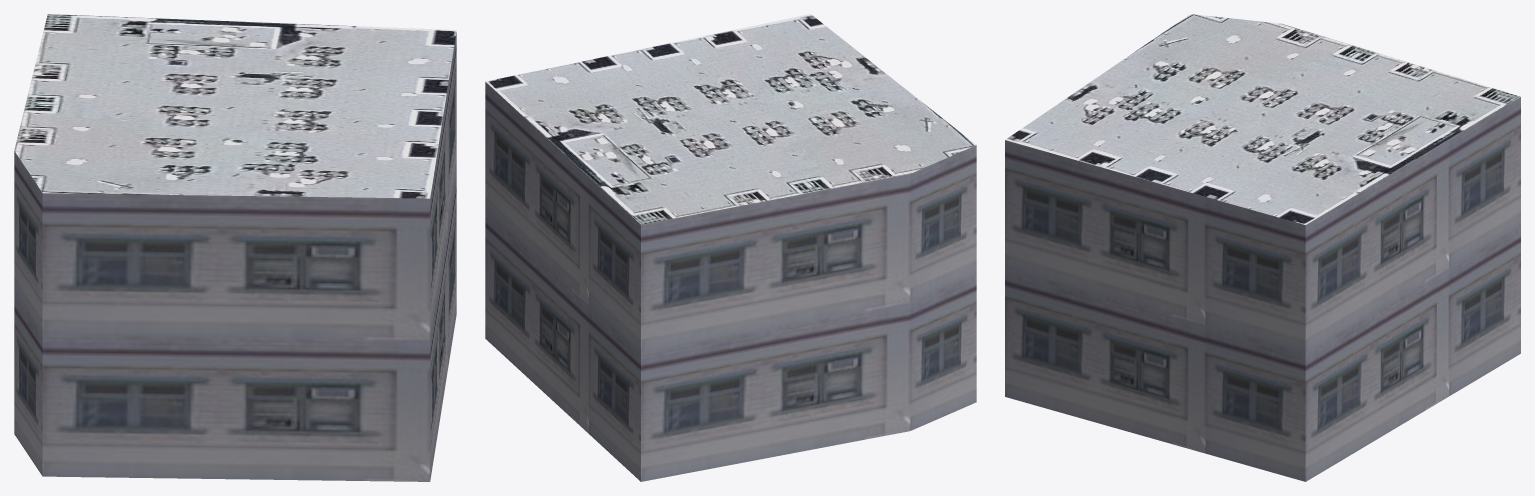
File: ResTex__110.fbx
3 views of the same model, side by side, from view 1: azimuth 30°, elevation 25°; view 2: azimuth 150°, elevation 25°; view 3: azimuth 270°, elevation 25° (orthographic). The views are drawn at different scales.
Visible parts, largest first — view 1: CityEngineMaterial_1_m, CityEngineMaterial_4_m; view 2: CityEngineMaterial_1_m, CityEngineMaterial_4_m; view 3: CityEngineMaterial_1_m, CityEngineMaterial_4_m.
Part boxes in pixels (left/top/right/bottom): CityEngineMaterial_1_m: left=14, top=32, right=456, bottom=481; CityEngineMaterial_4_m: left=14, top=14, right=456, bottom=198; CityEngineMaterial_1_m: left=485, top=82, right=976, bottom=481; CityEngineMaterial_4_m: left=486, top=14, right=976, bottom=224; CityEngineMaterial_1_m: left=1005, top=97, right=1520, bottom=481; CityEngineMaterial_4_m: left=1005, top=14, right=1520, bottom=224.
Bounding box in the file's own units: 10.58 × 6 × 10.93.
2 materials, 2 textured.
